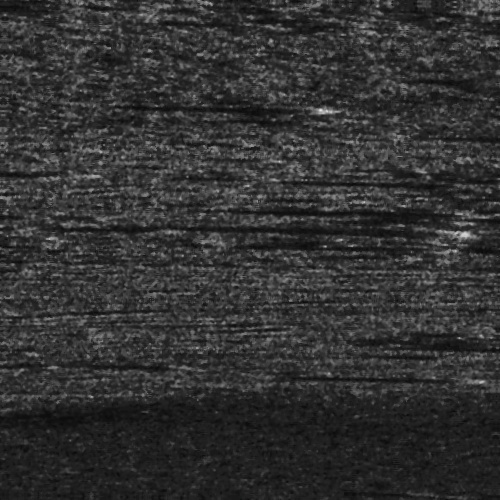object: (294, 104, 325, 107)
shadow: (419, 125, 500, 134), (119, 104, 310, 107)
